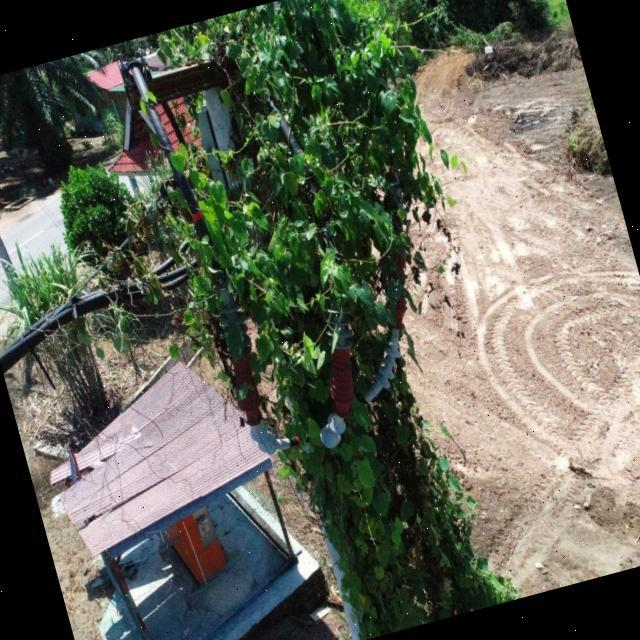critical vegetation: (105, 6, 546, 640)
